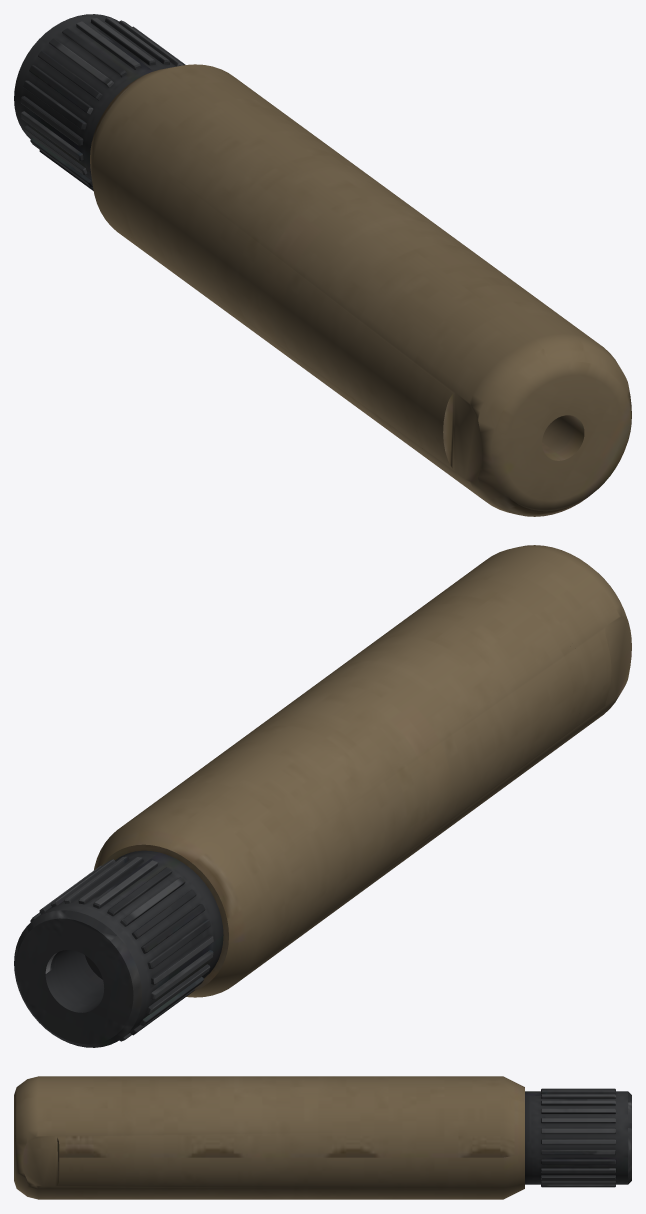
Rendered from muzzle_suppressor_sr.glb.
The picture shows the model from 3 angles, top to bottom: view 1: azimuth 30°, elevation 25°; view 2: azimuth 150°, elevation 25°; view 3: azimuth 270°, elevation 25°; orthographic projection. The views are drawn at different scales.
Parts seen in each view (by area): view 1: body; view 2: body; view 3: body.
Part boxes in pixels (left/top/right/bottom): body: left=14, top=14, right=631, bottom=516; body: left=14, top=545, right=631, bottom=1047; body: left=14, top=1076, right=631, bottom=1199.
Size of the model in its own units: 0.046 by 0.046 by 0.231.
1 material, 1 textured.
